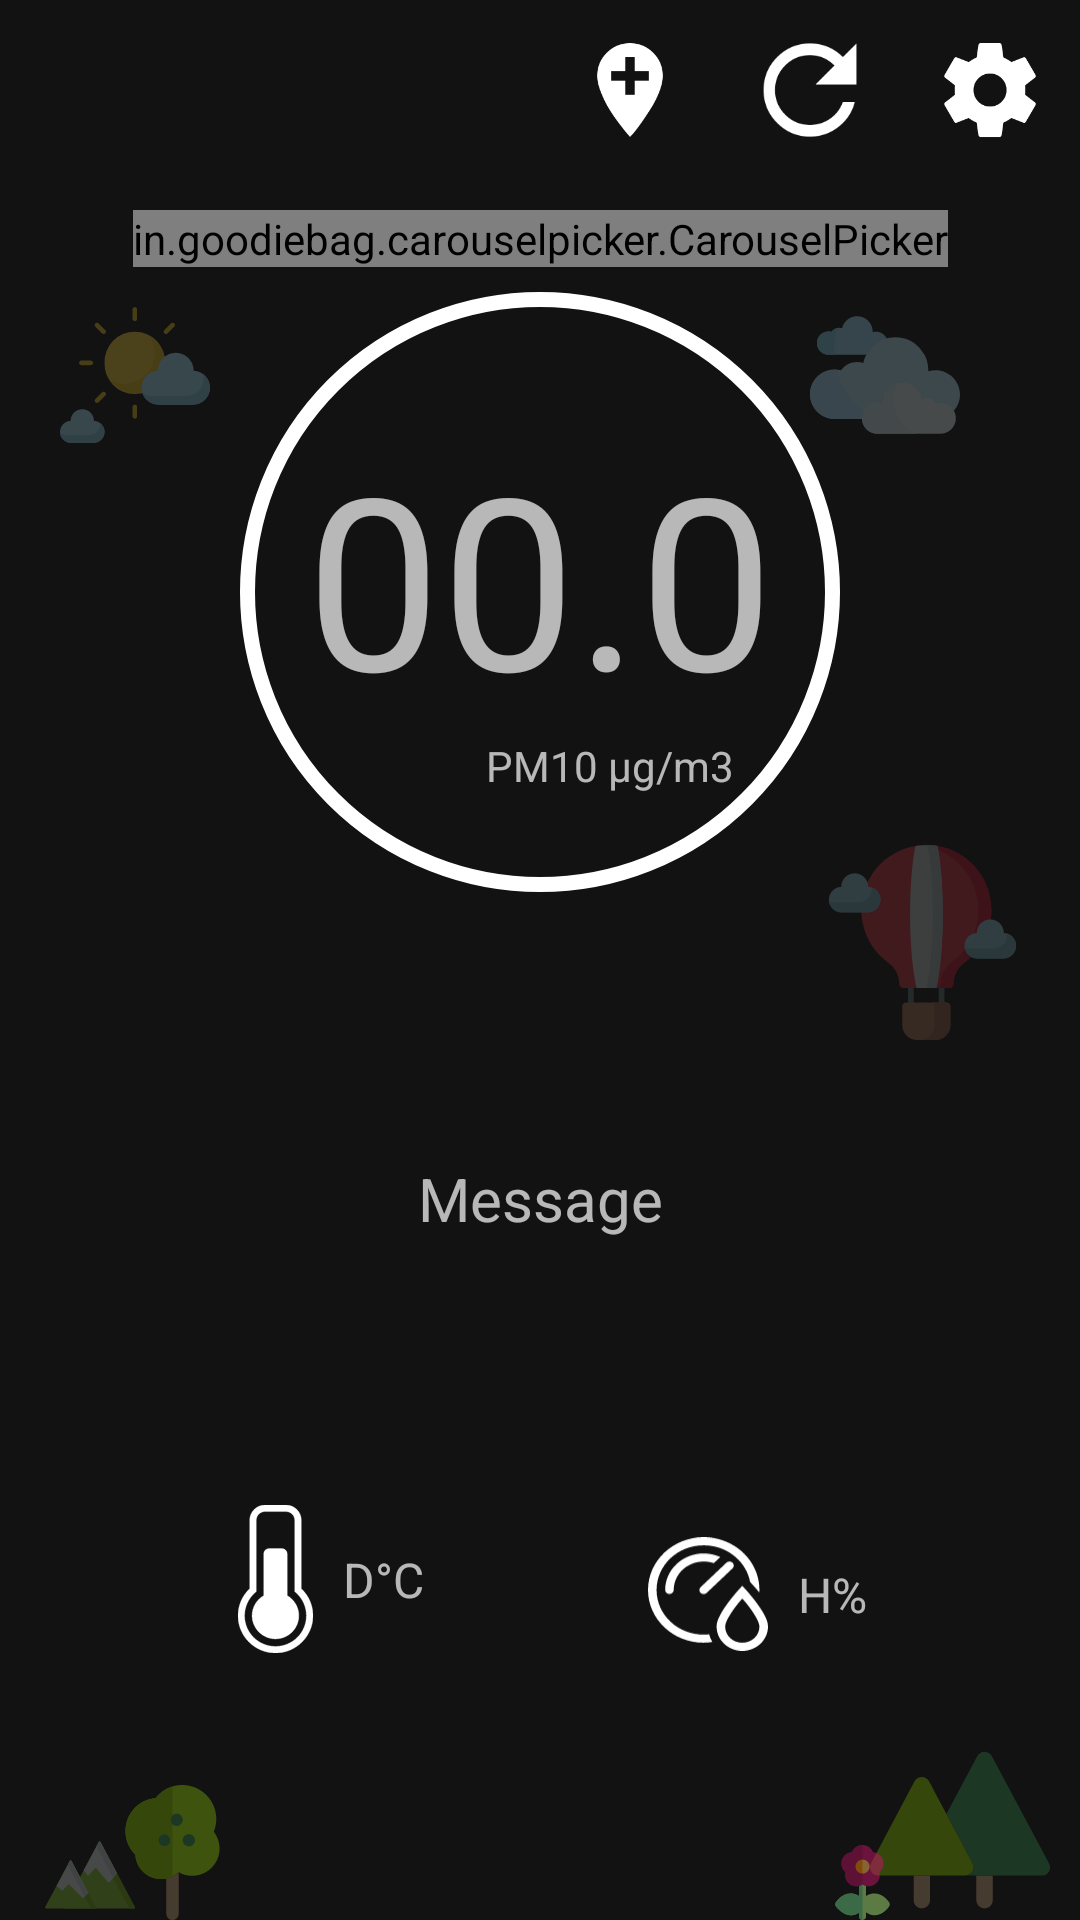

Named icons in this screenshot (1080×1920) and their centers, (x=x, y=y):
add location: (x=630, y=90)
clouds: (x=885, y=375)
fruit tree: (x=172, y=1852)
hot air balloon: (x=922, y=942)
humidity: (x=708, y=1594)
mountains: (x=90, y=1875)
pine: (x=960, y=1834)
poppy: (x=867, y=1882)
refresh: (x=810, y=90)
settings: (x=990, y=90)
sun: (x=135, y=375)
temperature: (x=275, y=1579)
